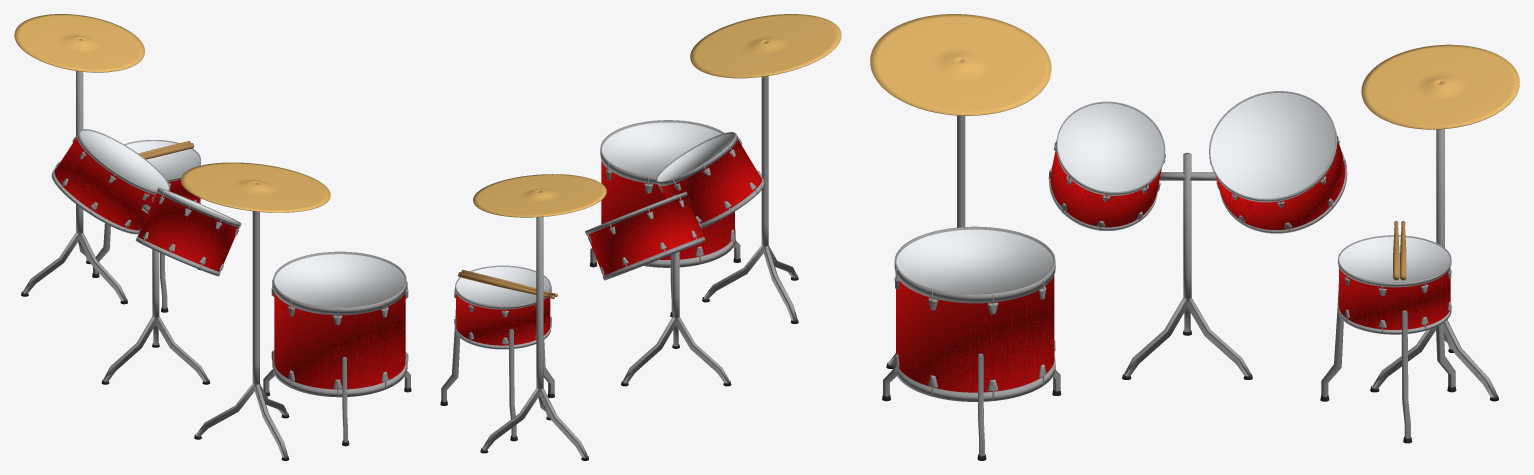
The model's file is drum+baguettes.fbx.
The picture shows the model from 3 angles, left to right: view 1: azimuth 30°, elevation 25°; view 2: azimuth 150°, elevation 25°; view 3: azimuth 270°, elevation 25°; orthographic projection. The views are drawn at different scales.
Parts seen in each view (by area): view 1: Cylinder, Cylinder.004, Circle.001, Circle, Cylinder.002, Cube.003, Cube.010, Cube.012, Cylinder.003, Cube.002, Cube.011; view 2: Cylinder, Circle, Cylinder.003, Cylinder.002, Cylinder.004, Circle.001, Cube.003, Cube.010, Cube.012, Cube.011, Cylinder.005, Cube.002; view 3: Cylinder, Cylinder.004, Circle, Cylinder.002, Circle.001, Cylinder.003, Cube.012, Cube.010, Cube.011, Cube.002, Cube.003.
Boxes of the visible parts, x1,y1,x2,y2 form: Cylinder: [273, 251, 406, 397]; Cylinder.004: [51, 129, 170, 234]; Circle.001: [14, 14, 144, 72]; Circle: [181, 162, 330, 212]; Cylinder.002: [135, 187, 241, 275]; Cube.003: [194, 211, 289, 460]; Cube.010: [21, 71, 127, 304]; Cube.012: [101, 196, 209, 384]; Cylinder.003: [124, 140, 200, 203]; Cube.002: [263, 357, 411, 446]; Cube.011: [92, 223, 200, 312]; Cylinder: [600, 120, 735, 267]; Circle: [690, 14, 841, 78]; Cylinder.003: [455, 265, 550, 349]; Cylinder.002: [656, 132, 764, 228]; Cylinder.004: [585, 191, 705, 280]; Circle.001: [473, 174, 606, 217]; Cube.003: [702, 76, 798, 323]; Cube.010: [480, 217, 588, 460]; Cube.012: [621, 194, 731, 386]; Cube.011: [440, 309, 554, 441]; Cylinder.005: [458, 272, 554, 299]; Cube.002: [589, 241, 740, 317]; Cylinder: [894, 226, 1055, 401]; Cylinder.004: [1209, 91, 1347, 233]; Circle: [870, 14, 1051, 115]; Cylinder.002: [1049, 101, 1165, 230]; Circle.001: [1361, 44, 1519, 129]; Cylinder.003: [1338, 235, 1451, 334]; Cube.012: [1122, 153, 1252, 379]; Cube.010: [1370, 129, 1498, 401]; Cube.011: [1320, 284, 1456, 443]; Cube.002: [882, 353, 1061, 460]; Cube.003: [886, 115, 965, 368].
Size of the model in its own units: 71.19 by 77.9 by 145.
